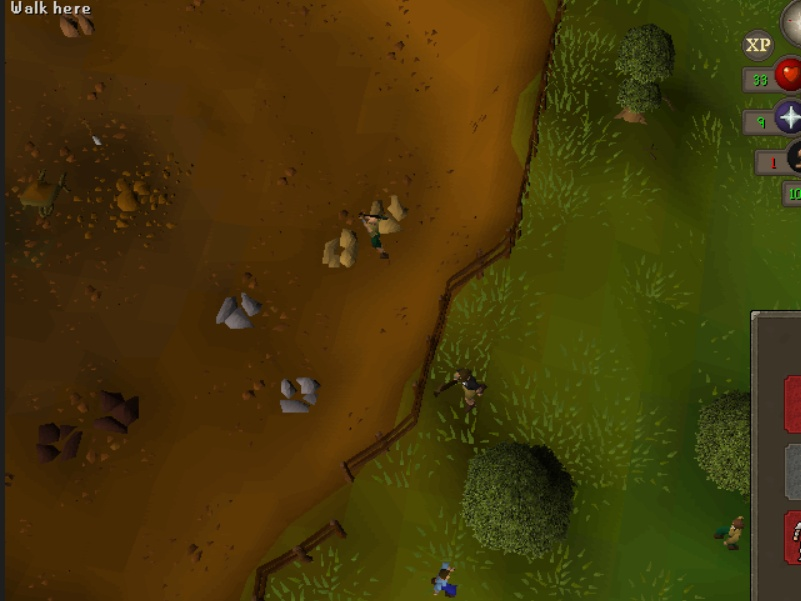clay: (364, 194, 416, 241), (319, 223, 366, 273)
copper: (55, 1, 97, 47)
iron: (28, 412, 85, 465), (87, 387, 144, 440)
tin: (269, 369, 327, 416), (211, 289, 269, 329)
